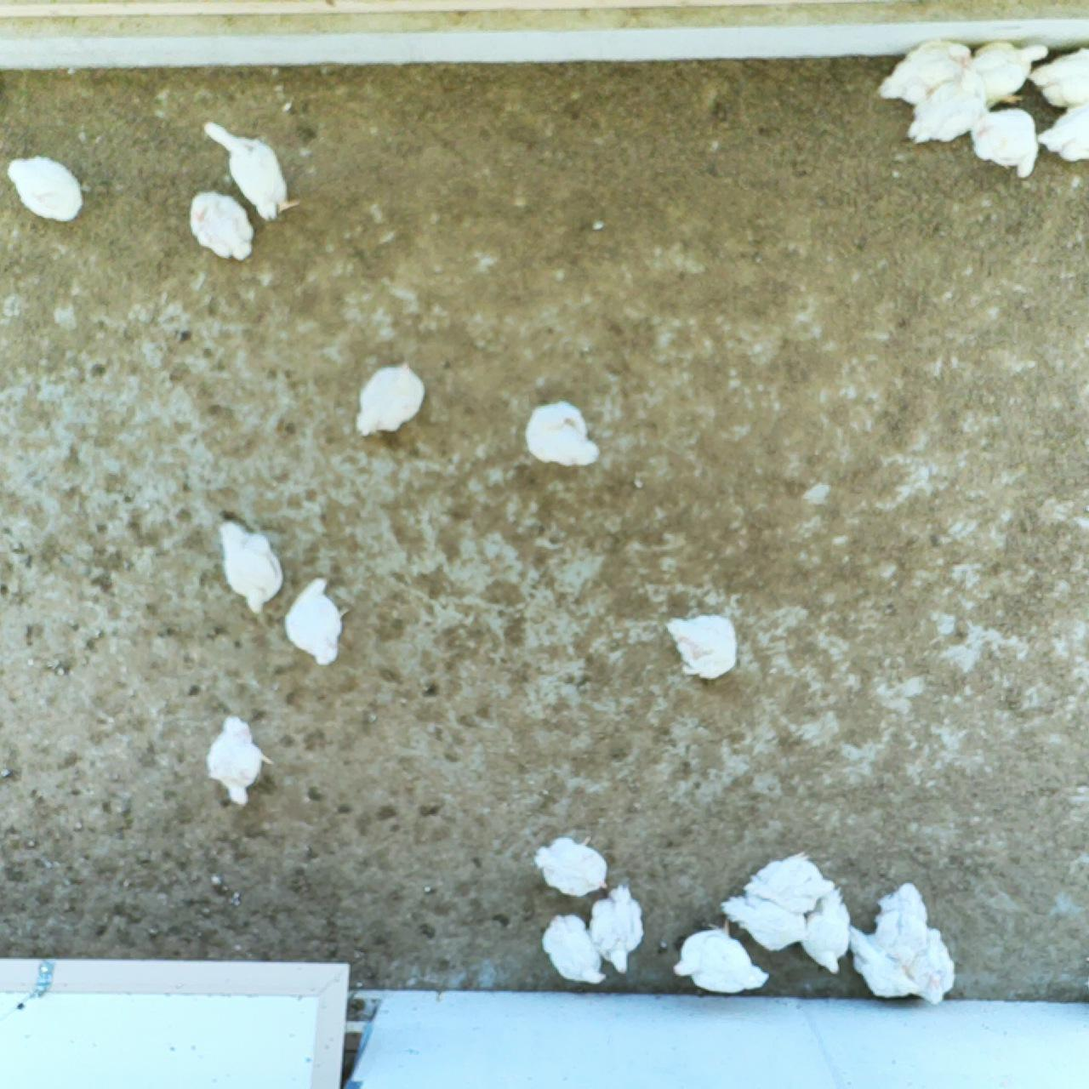chicken: (200, 117, 305, 224), (670, 916, 771, 997), (202, 711, 275, 814), (216, 516, 288, 617), (876, 37, 974, 109), (739, 848, 837, 917), (284, 572, 351, 669), (907, 67, 987, 148), (348, 359, 427, 441), (838, 922, 917, 1001), (715, 889, 813, 952), (523, 397, 603, 472), (663, 609, 743, 683), (4, 152, 85, 224), (187, 186, 259, 265), (972, 39, 1051, 111), (588, 881, 647, 977), (537, 910, 608, 989), (872, 880, 933, 971), (529, 833, 612, 899), (969, 107, 1040, 181), (801, 886, 853, 976), (904, 926, 960, 1009), (1026, 46, 1089, 110), (1036, 102, 1089, 163)
